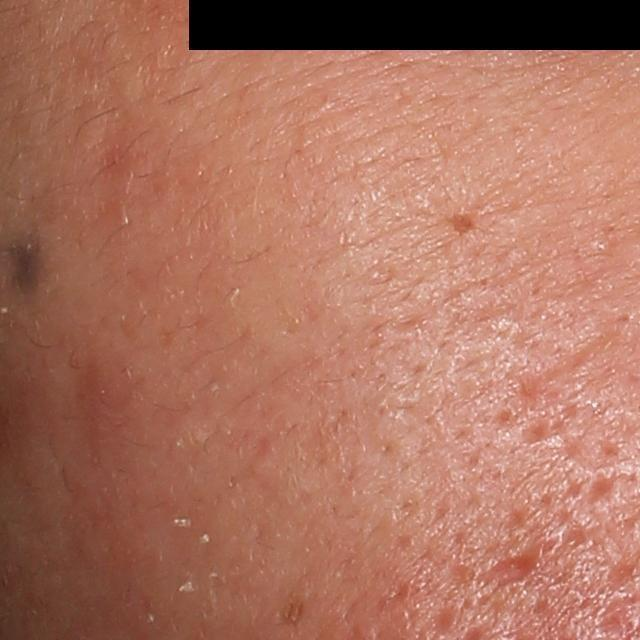atrophic_scar: (504, 314, 639, 470), (478, 546, 545, 588), (581, 472, 616, 517)
